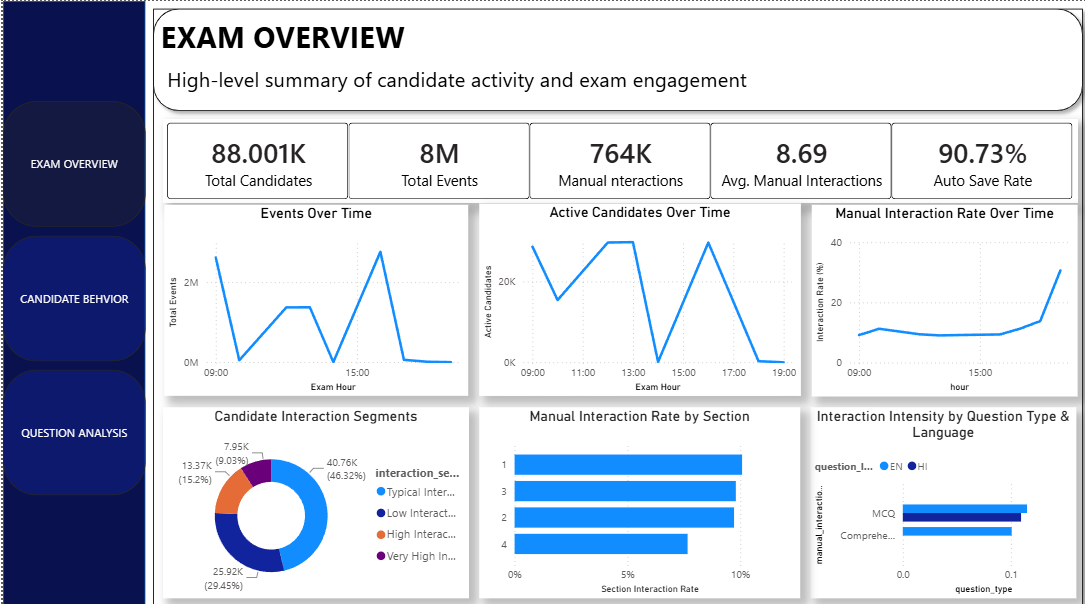

What the dashboard file says about the page in this screenshot:
{"tool":"powerbi","page":{"name":"EXAM OVERVIEW","canvas":[1280,720],"ordinal":0},"visuals":[{"type":"shape","box":[0,0,167.7,720.6],"z":0},{"type":"shape","box":[167.7,0,1111.8,720.6],"z":1000},{"type":"shape","box":[167.7,0,1111.8,138.2],"z":2000},{"type":"textbox","box":[188,70,784,48],"z":3000},{"type":"cardVisual","fields":{"Data":["CountNonNull(public candidate_behavior.candidate_id)","Sum(public hourly_behavior.total_events)","Sum(public hourly_behavior.manual_interactions)","Avg(public candidate_behavior.manual_interactions)","public hourly_behavior.Auto Save Rate"]},"box":[188,138,1076,100],"z":4000},{"type":"lineChart","title":"Events Over Time","fields":{"Y":["Sum(public hourly_behavior.total_events)"],"Category":["public hourly_behavior.hour"]},"box":[190,240,357.5,225],"z":5000},{"type":"lineChart","title":"Active Candidates Over Time","fields":{"Category":["public hourly_behavior.hour"],"Y":["Sum(public hourly_behavior.active_candidates)"]},"box":[560,238.3,378.3,226.7],"z":6000},{"type":"lineChart","title":"Manual Interaction Rate Over Time","fields":{"Category":["public hourly_behavior.hour"],"Y":["Sum(public hourly_behavior.manual_interaction_rate)"]},"box":[950.9,240,312.7,225.5],"z":7000},{"type":"donutChart","title":"Candidate Interaction Segments","fields":{"Category":["public candidate_behavior.interaction_segment"],"Y":["CountNonNull(public candidate_behavior.candidate_id)"]},"box":[187.5,477.5,360,225],"z":8000},{"type":"clusteredBarChart","title":"Interaction Intensity by Question Type & Language","fields":{"Category":["public question_behavior.question_type"],"Y":["public question_behavior.Question Type Interaction Rate"],"Series":["public question_behavior.question_language"]},"box":[950,477.5,312.5,225],"z":9000},{"type":"clusteredBarChart","title":"Manual Interaction Rate by Section","fields":{"Category":["public section_behavior.question_section"],"Y":["public section_behavior.Section Interaction Rate"]},"box":[560,477.5,377.5,225],"z":10000},{"type":"pageNavigator","box":[0,118.3,168.3,465],"z":11000}]}

Visuals, with their boxes on the page's 1280x720 design canvas (x1, y1, x2, y2). These are canvas units, not pixel positions in the 1085x604 screenshot, which may show the page scaled, cropped or inside an application window:
shape: 0, 0, 168, 721
shape: 168, 0, 1280, 721
shape: 168, 0, 1280, 138
textbox: 188, 70, 972, 118
cardVisual - CountNonNull(public candidate_behavior.candidate_id) x Sum(public hourly_behavior.total_events): 188, 138, 1264, 238
"Events Over Time" lineChart: 190, 240, 548, 465
"Active Candidates Over Time" lineChart: 560, 238, 938, 465
"Manual Interaction Rate Over Time" lineChart: 951, 240, 1264, 466
"Candidate Interaction Segments" donutChart: 188, 478, 548, 702
"Interaction Intensity by Question Type & Language" clusteredBarChart: 950, 478, 1262, 702
"Manual Interaction Rate by Section" clusteredBarChart: 560, 478, 938, 702
pageNavigator: 0, 118, 168, 583
